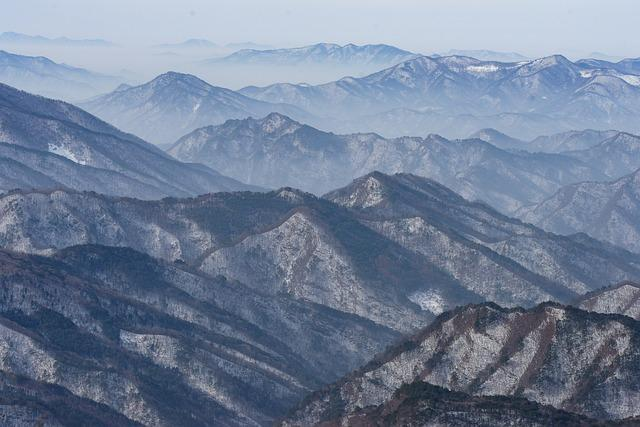Non_Gorille: (34, 103, 635, 419)
